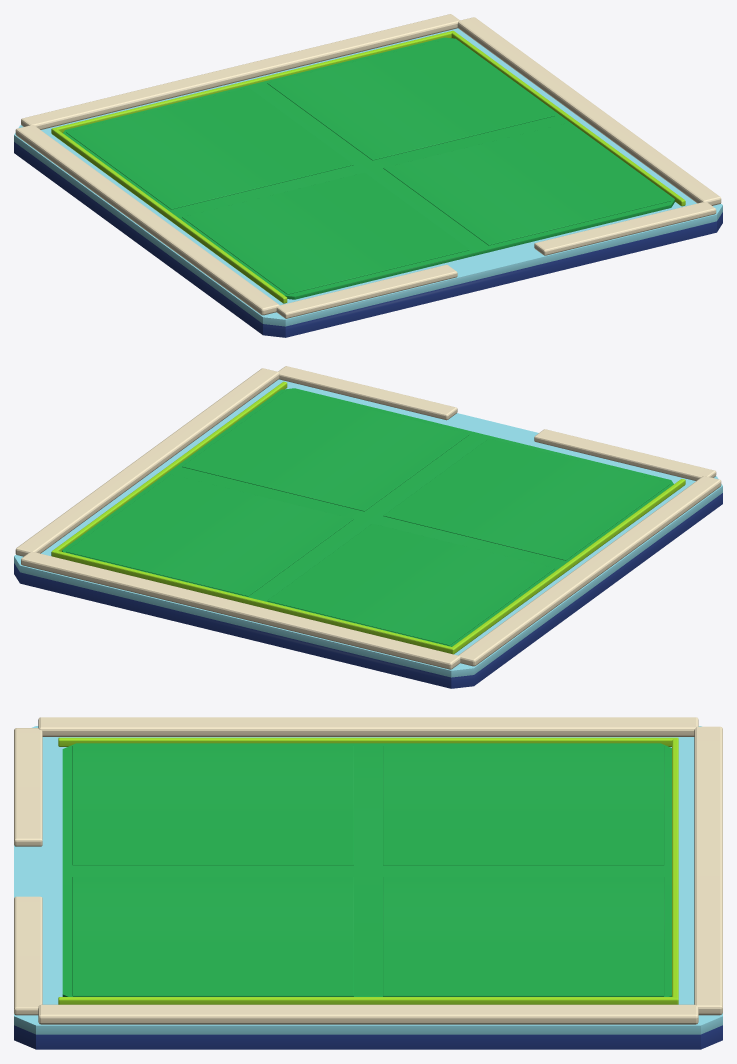
File: PlotPlatform.fbx
3 renders of one model, top to bottom at view 1: azimuth 30°, elevation 25°; view 2: azimuth 150°, elevation 25°; view 3: azimuth 270°, elevation 25°, orthographic. The views are drawn at different scales.
Visible parts, largest first — view 1: PlotPlatform; view 2: PlotPlatform; view 3: PlotPlatform.
Part boxes in pixels (left/top/right/bottom): PlotPlatform: left=14, top=14, right=722, bottom=337; PlotPlatform: left=14, top=366, right=722, bottom=688; PlotPlatform: left=14, top=717, right=722, bottom=1049.
Size of the model in its own units: 32 by 1.68 by 32.
Materials: 1 (1 with a texture image).
